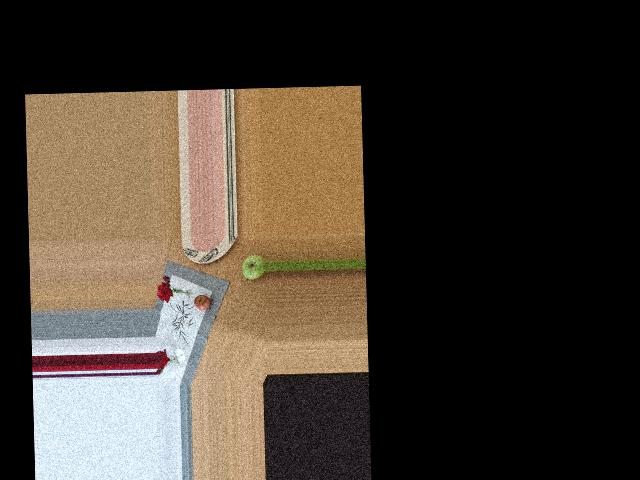apple: (240, 253, 265, 280)
